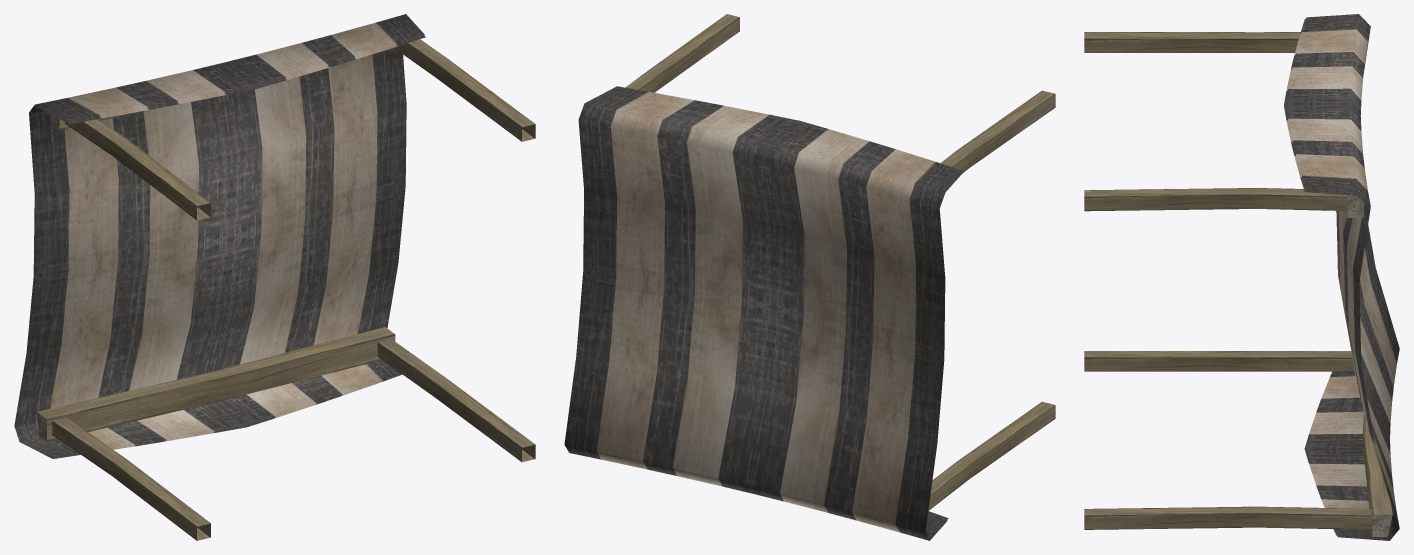
File: Merchant_Tent_Type_01_A.fbx
3 views of the same model, side by side, from view 1: azimuth 30°, elevation 25°; view 2: azimuth 150°, elevation 25°; view 3: azimuth 270°, elevation 25° (orthographic). The views are drawn at different scales.
Visible parts, largest first — view 1: Merchant_Tent_Type_01_A; view 2: Merchant_Tent_Type_01_A; view 3: Merchant_Tent_Type_01_A.
Boxes of the visible parts, bbox=[...] form: Merchant_Tent_Type_01_A: bbox=[14, 14, 535, 540]; Merchant_Tent_Type_01_A: bbox=[564, 14, 1055, 540]; Merchant_Tent_Type_01_A: bbox=[1084, 14, 1399, 540].
Bounding box in the file's own units: 5.26 × 4.73 × 3.89.
